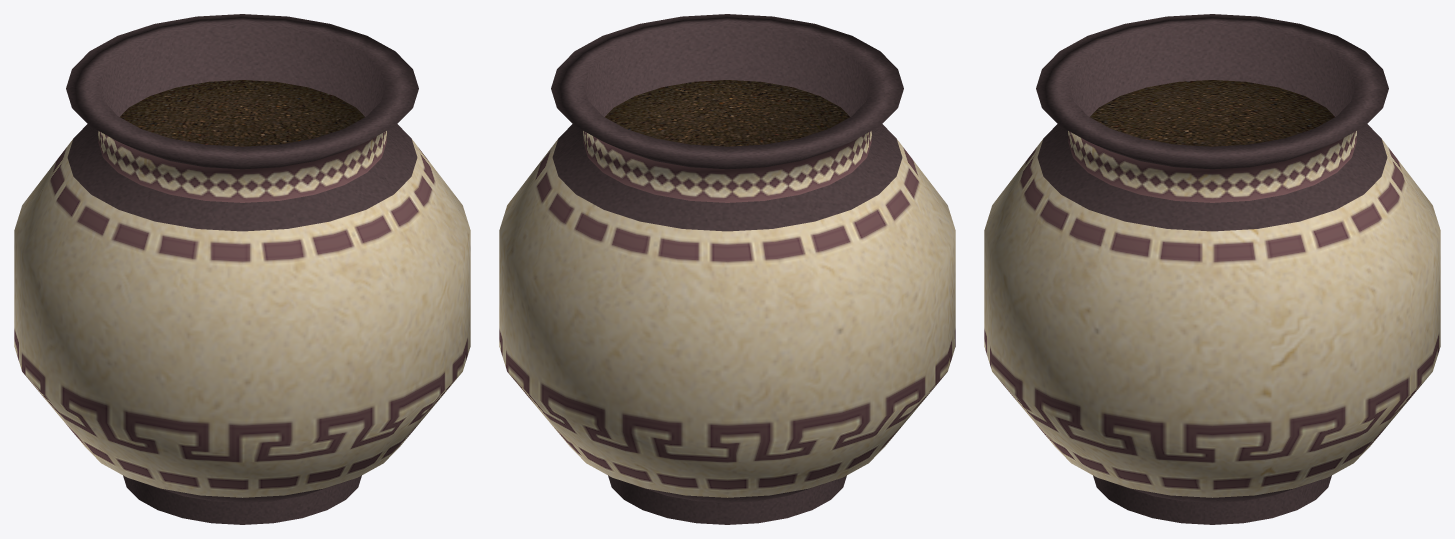
File: Furniture_flowerpot_01a_LOD1.fbx
The picture shows the model from 3 angles, left to right: view 1: azimuth 30°, elevation 25°; view 2: azimuth 150°, elevation 25°; view 3: azimuth 270°, elevation 25°; orthographic projection.
Parts seen in each view (by area): view 1: Furniture_foliagepot_01a_LOD1; view 2: Furniture_foliagepot_01a_LOD1; view 3: Furniture_foliagepot_01a_LOD1.
Boxes of the visible parts, <box> form: Furniture_foliagepot_01a_LOD1: <box>14,14,470,524</box>; Furniture_foliagepot_01a_LOD1: <box>499,14,955,524</box>; Furniture_foliagepot_01a_LOD1: <box>984,14,1440,524</box>.
Size of the model in its own units: 29.68 by 27.88 by 29.68.
